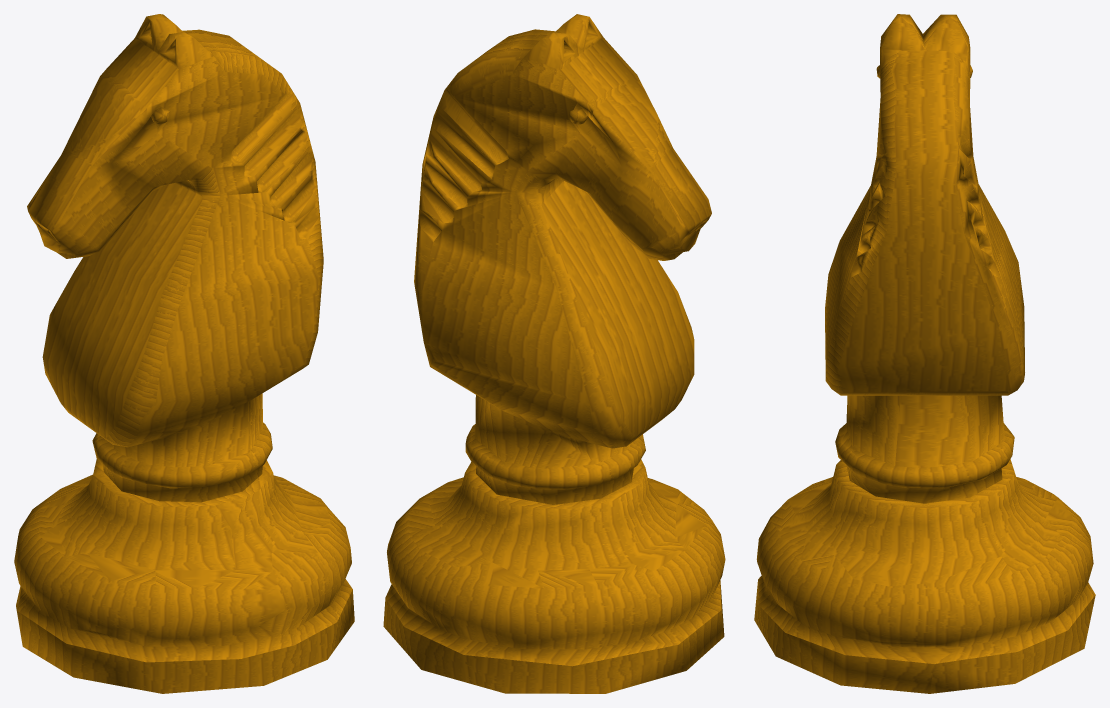
File: Knight_low_uv.obj
3 renders of one model, left to right at view 1: azimuth 30°, elevation 25°; view 2: azimuth 150°, elevation 25°; view 3: azimuth 270°, elevation 25°, orthographic.
Visible parts, largest first — view 1: Knight; view 2: Knight; view 3: Knight.
Part boxes in pixels (x1=…): Knight: x1=14, y1=14, x2=354, y2=693; Knight: x1=383, y1=14, x2=725, y2=693; Knight: x1=754, y1=14, x2=1095, y2=693.
Bounding box in the file's own units: 1.19 × 2.32 × 1.2.
